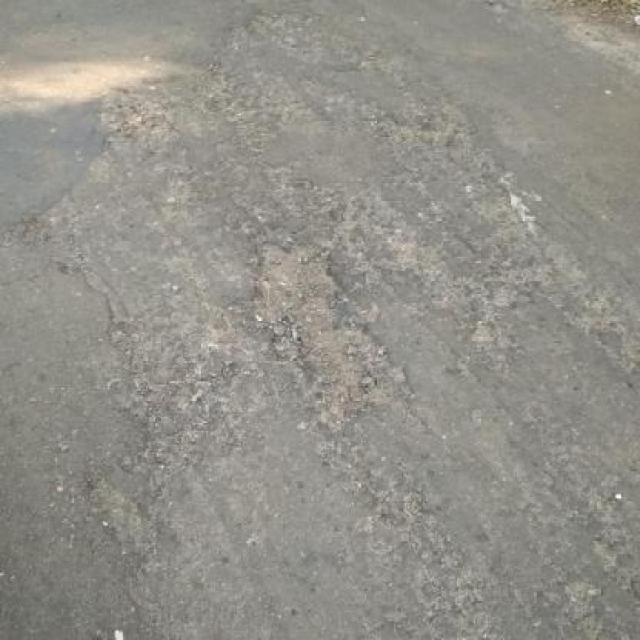Pothole: (244, 234, 416, 421)
